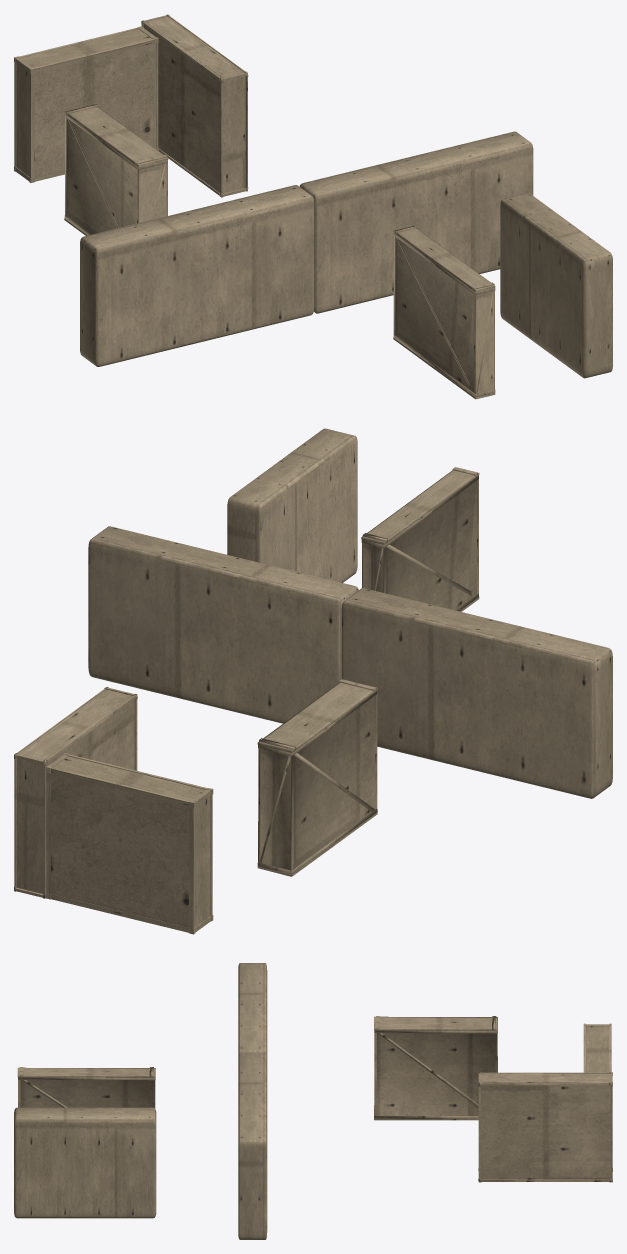
File: Right_Wall.fbx
3 renders of one model, top to bottom at view 1: azimuth 30°, elevation 25°; view 2: azimuth 150°, elevation 25°; view 3: azimuth 270°, elevation 25°, orthographic. The views are drawn at different scales.
Visible parts, largest first — view 1: Right_Wall; view 2: Right_Wall; view 3: Right_Wall.
Boxes of the visible parts, x1=… form: Right_Wall: x1=14, y1=14, x2=612, y2=399; Right_Wall: x1=14, y1=428, x2=612, y2=934; Right_Wall: x1=14, y1=963, x2=612, y2=1239.
Bounding box in the file's own units: 1142 × 298 × 1614.
1 material, 1 textured.
